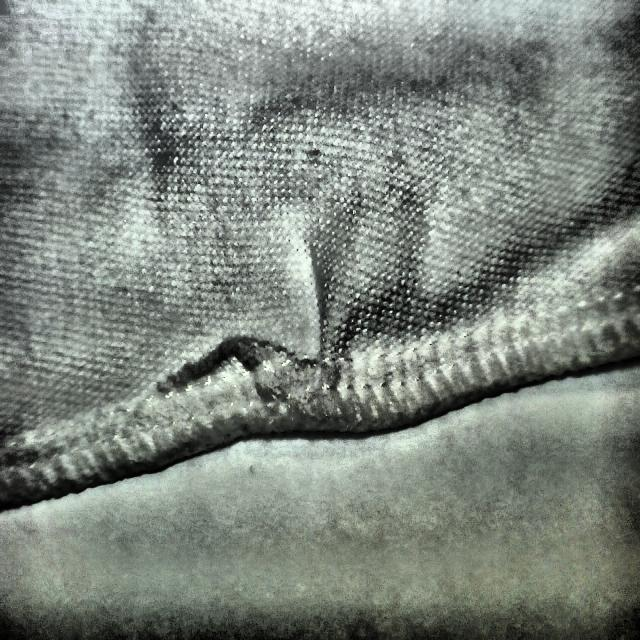seam: (167, 246, 359, 435)
